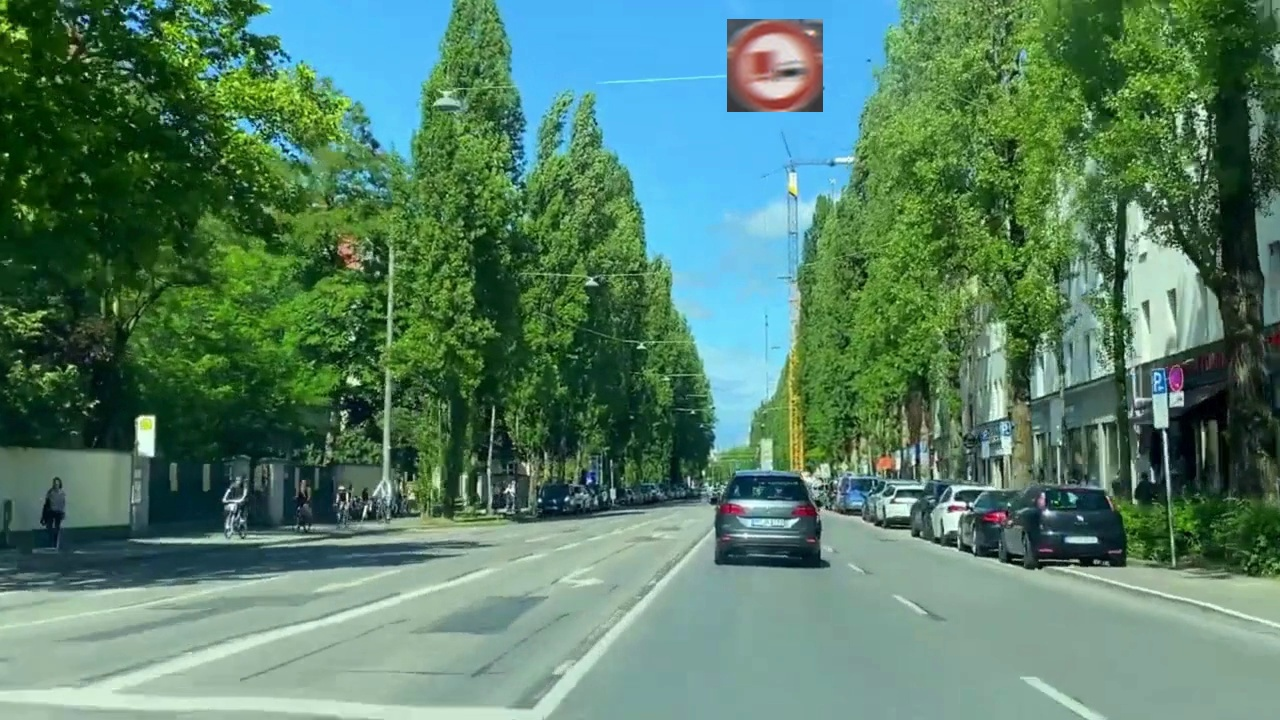No pass >3.5t: (727, 19, 823, 112)
